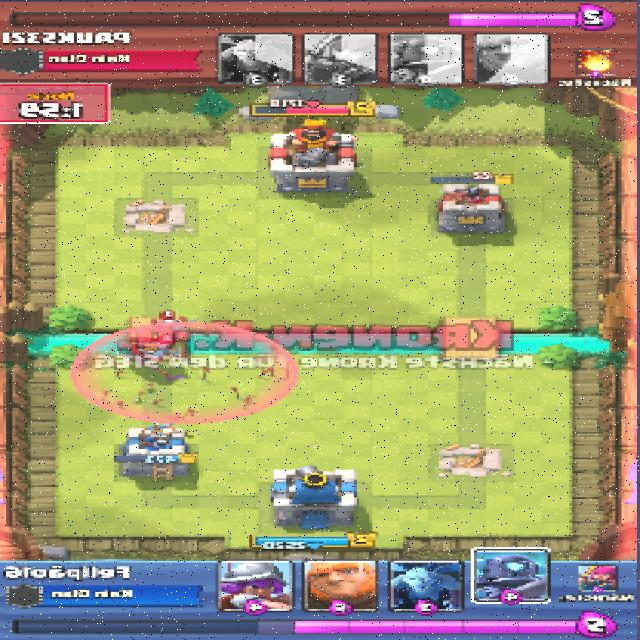Enemy-Arrow: (68, 320, 298, 423)
Enemy-Knight: (128, 344, 178, 366)
Enemy-Musketeer: (155, 316, 188, 332)
